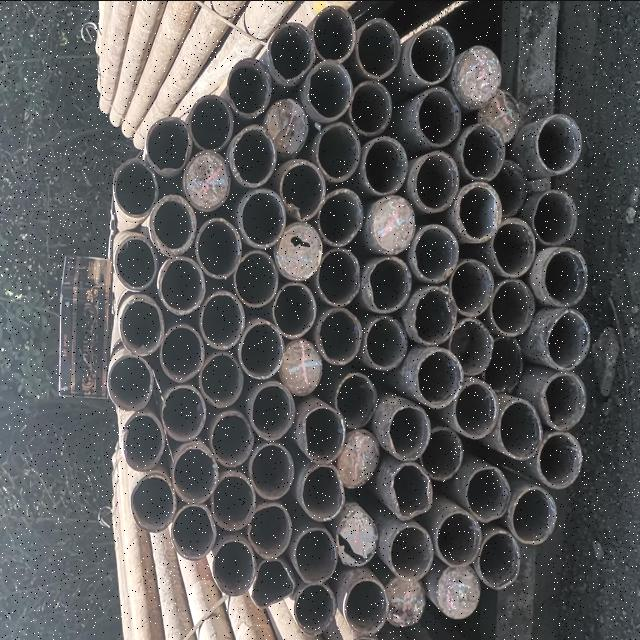pipe: (485, 270, 543, 350), (454, 170, 506, 256), (274, 157, 326, 230), (426, 506, 487, 566), (412, 344, 468, 408), (498, 392, 542, 472), (384, 518, 436, 585), (148, 111, 194, 185), (412, 149, 462, 217), (410, 216, 460, 284), (456, 370, 504, 440), (146, 194, 198, 258), (230, 118, 276, 190), (336, 506, 384, 574), (347, 70, 395, 138), (275, 217, 323, 284), (298, 402, 348, 466), (341, 570, 391, 634), (413, 85, 463, 149), (462, 462, 512, 526), (156, 250, 204, 316), (250, 434, 296, 502), (317, 300, 363, 368), (489, 215, 535, 283), (366, 190, 418, 250), (272, 279, 322, 341), (290, 524, 340, 586), (196, 217, 242, 284), (212, 406, 260, 470), (368, 252, 416, 316), (541, 368, 589, 432), (418, 423, 468, 484), (332, 372, 382, 432), (233, 248, 281, 310), (305, 58, 353, 120), (542, 307, 590, 369), (355, 17, 405, 76), (172, 442, 218, 506), (238, 188, 284, 252), (111, 154, 158, 216), (212, 467, 256, 533), (240, 312, 284, 378), (450, 259, 494, 325), (538, 107, 580, 176), (247, 383, 295, 443), (386, 458, 434, 518), (316, 118, 360, 183), (452, 315, 498, 377), (243, 501, 293, 558), (321, 185, 366, 248), (228, 56, 272, 120), (340, 422, 380, 492), (538, 246, 588, 302), (408, 23, 457, 80), (414, 284, 459, 346), (298, 463, 346, 521), (369, 310, 411, 376), (212, 538, 258, 598), (456, 44, 502, 104), (186, 149, 230, 211), (312, 3, 356, 65), (170, 501, 216, 560), (105, 354, 153, 410), (118, 296, 164, 354), (265, 96, 311, 154), (202, 286, 242, 352), (278, 336, 322, 396), (515, 478, 555, 544), (435, 561, 481, 618), (201, 354, 243, 416), (383, 404, 433, 456), (160, 320, 203, 380), (128, 474, 174, 530), (364, 138, 410, 194), (536, 432, 582, 488), (111, 234, 155, 292), (317, 248, 361, 306), (478, 530, 522, 588), (536, 184, 578, 244), (381, 569, 425, 626), (159, 384, 203, 440), (122, 412, 163, 472), (194, 92, 230, 159), (249, 560, 297, 610), (484, 336, 524, 396), (484, 84, 522, 144), (268, 23, 308, 79), (464, 124, 502, 182), (293, 583, 335, 635), (492, 160, 530, 214)
